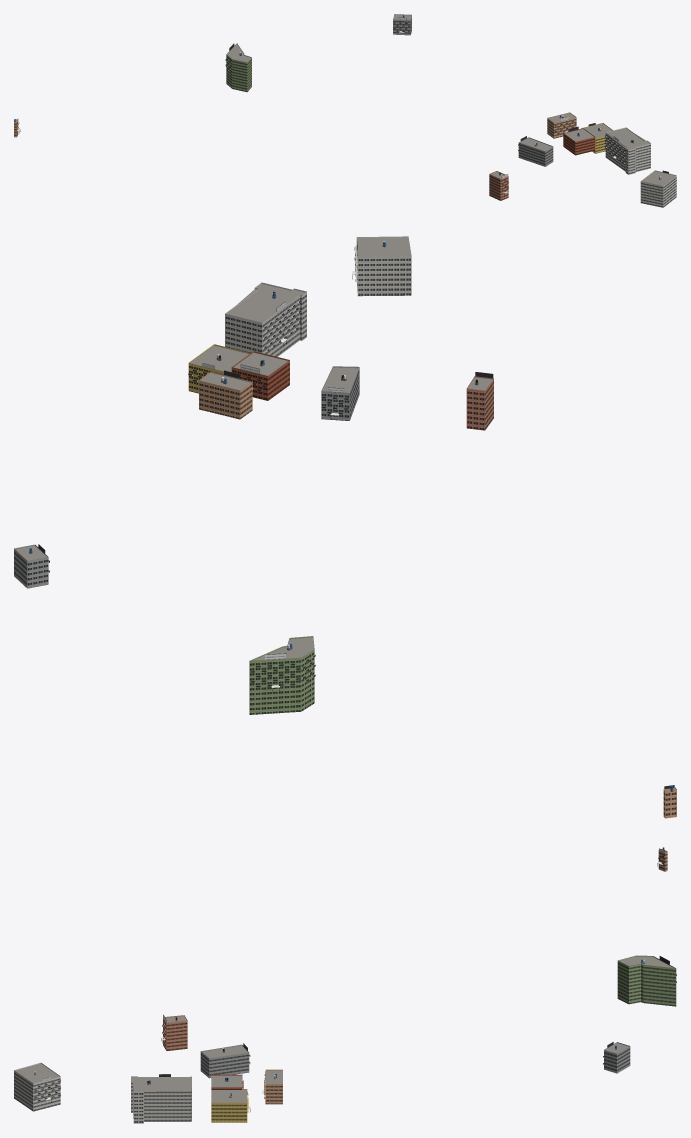
File: hotels-54720-29738.fe4f1a4d.glb
3 renders of one model, top to bottom at view 1: azimuth 30°, elevation 25°; view 2: azimuth 150°, elevation 25°; view 3: azimuth 270°, elevation 25°, orthographic. The views are drawn at different scales.
Size of the model in its own units: 532 by 51.48 by 548.
4 materials, 2 textured.
